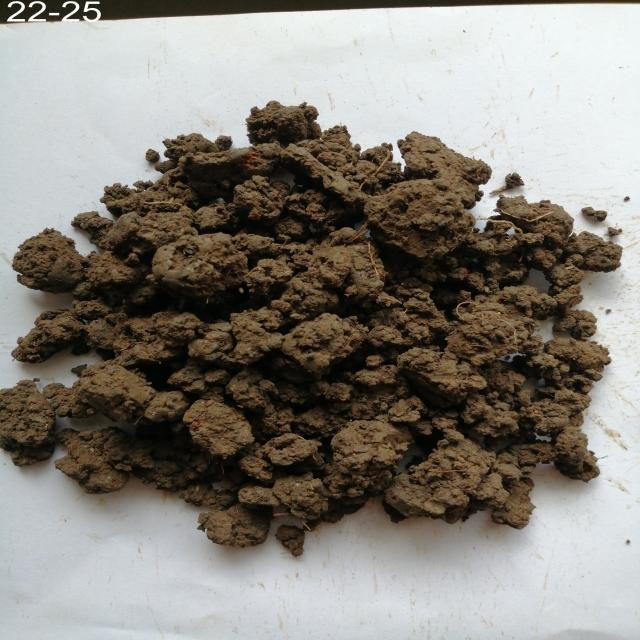soil: (137, 197, 542, 463)
